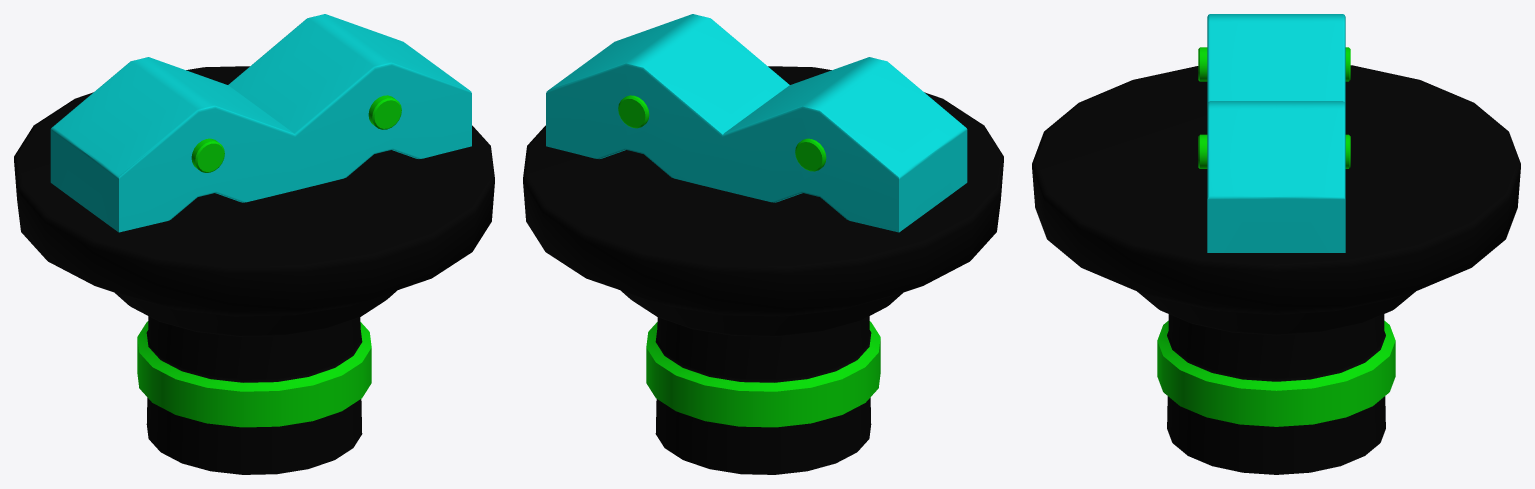
File: HorseTile.fbx
3 views of the same model, side by side, from view 1: azimuth 30°, elevation 25°; view 2: azimuth 150°, elevation 25°; view 3: azimuth 270°, elevation 25° (orthographic).
Visible parts, largest first — view 1: HorseTileBase; view 2: HorseTileBase; view 3: HorseTileBase.
Boxes of the visible parts, x1,y1,x2,y2 form: HorseTileBase: (14,14,494,474); HorseTileBase: (523,14,1003,474); HorseTileBase: (1032,14,1520,474).
Size of the model in its own units: 1.11 by 0.932 by 1.11.
